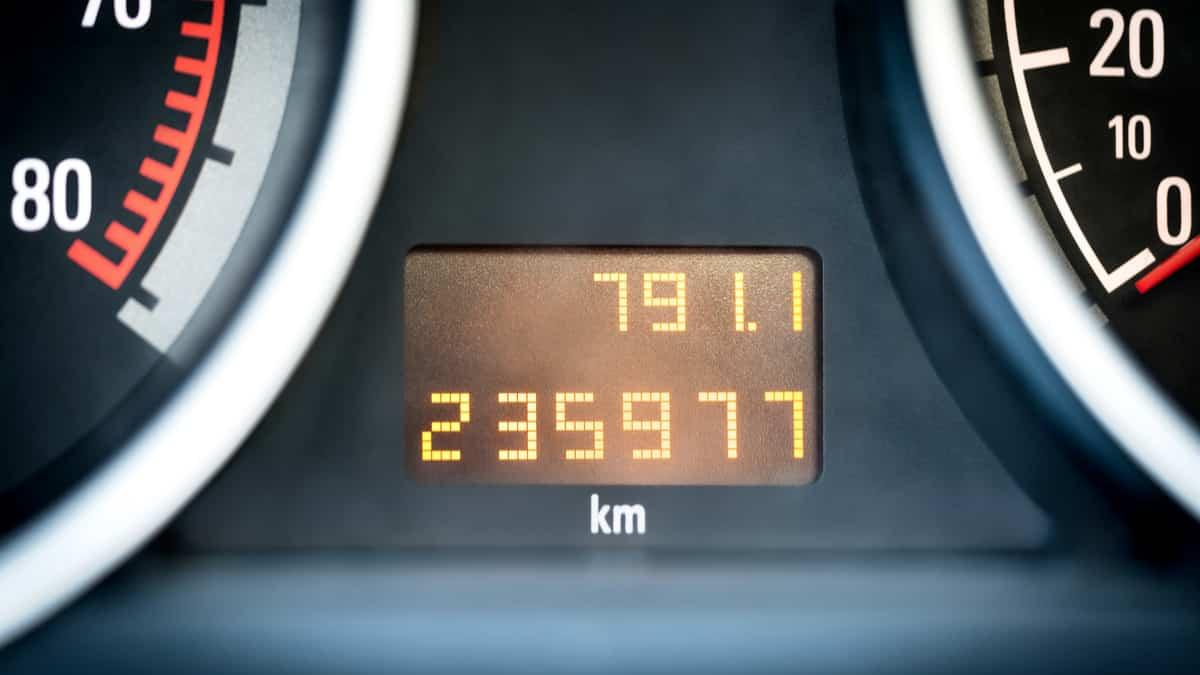-: (745, 319, 759, 333)
1: (725, 268, 747, 334), (786, 270, 805, 333)
2: (418, 391, 474, 465)
3: (492, 390, 541, 463)
5: (553, 390, 609, 463)
7: (694, 389, 740, 462), (762, 389, 807, 462), (590, 270, 630, 336)
9: (620, 388, 672, 462), (639, 271, 687, 335)
odometer: (399, 246, 825, 491)
